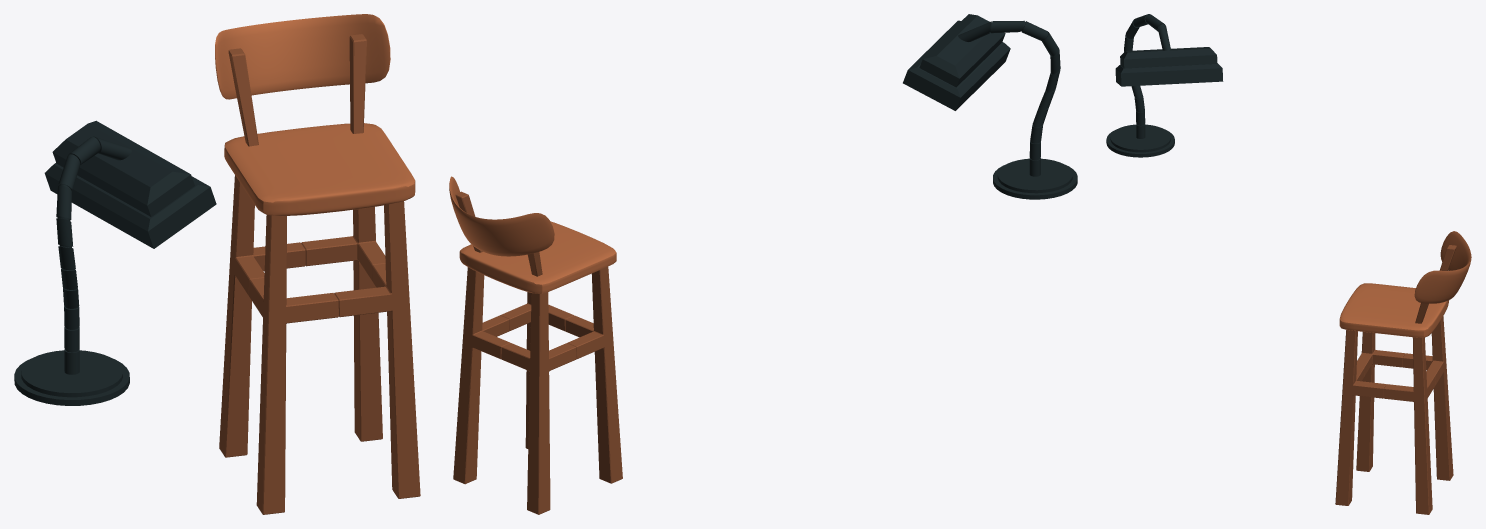
The model's file is Furniture.fbx.
3 renders of one model, left to right at view 1: azimuth 30°, elevation 25°; view 2: azimuth 150°, elevation 25°; view 3: azimuth 270°, elevation 25°, orthographic. The views are drawn at different scales.
Visible parts, largest first — view 1: Chair, Cylinder.021; view 2: Chair, Cylinder.021; view 3: Chair, Cylinder.021.
Boxes of the visible parts, x1=… form: Chair: x1=215, y1=14, x2=420, y2=514; Cylinder.021: x1=14, y1=120, x2=216, y2=405; Chair: x1=449, y1=176, x2=622, y2=514; Cylinder.021: x1=903, y1=14, x2=1077, y2=199; Chair: x1=1335, y1=231, x2=1471, y2=514; Cylinder.021: x1=1106, y1=14, x2=1223, y2=157.
Size of the model in its own units: 149 by 137 by 132.
